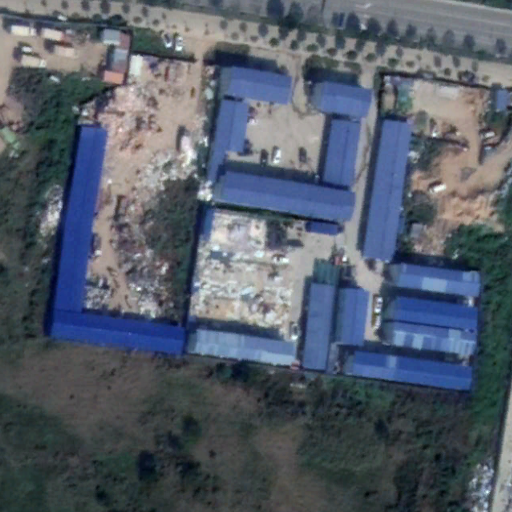msw: (77, 53, 206, 336), (191, 200, 306, 339)
